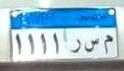1: (15, 31, 24, 55), (52, 31, 60, 55), (27, 32, 35, 56), (40, 33, 48, 55)
meem: (102, 34, 114, 56)
raa: (70, 37, 82, 55)
seen: (84, 37, 100, 54)
